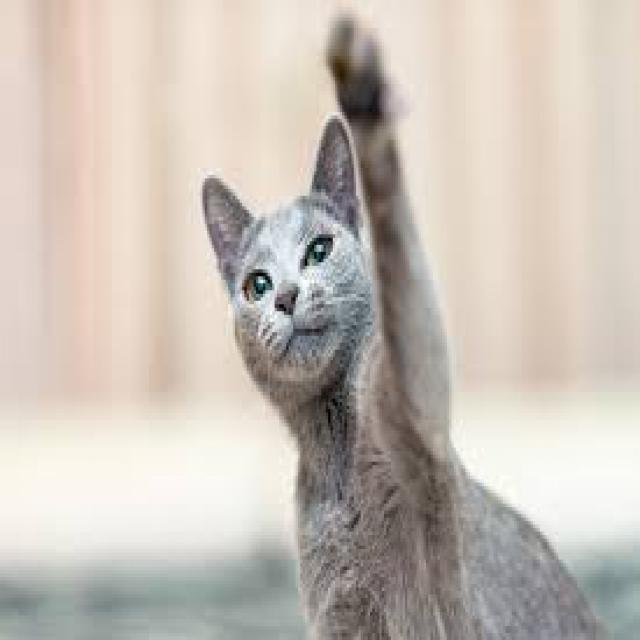Cat: (196, 4, 615, 638)
